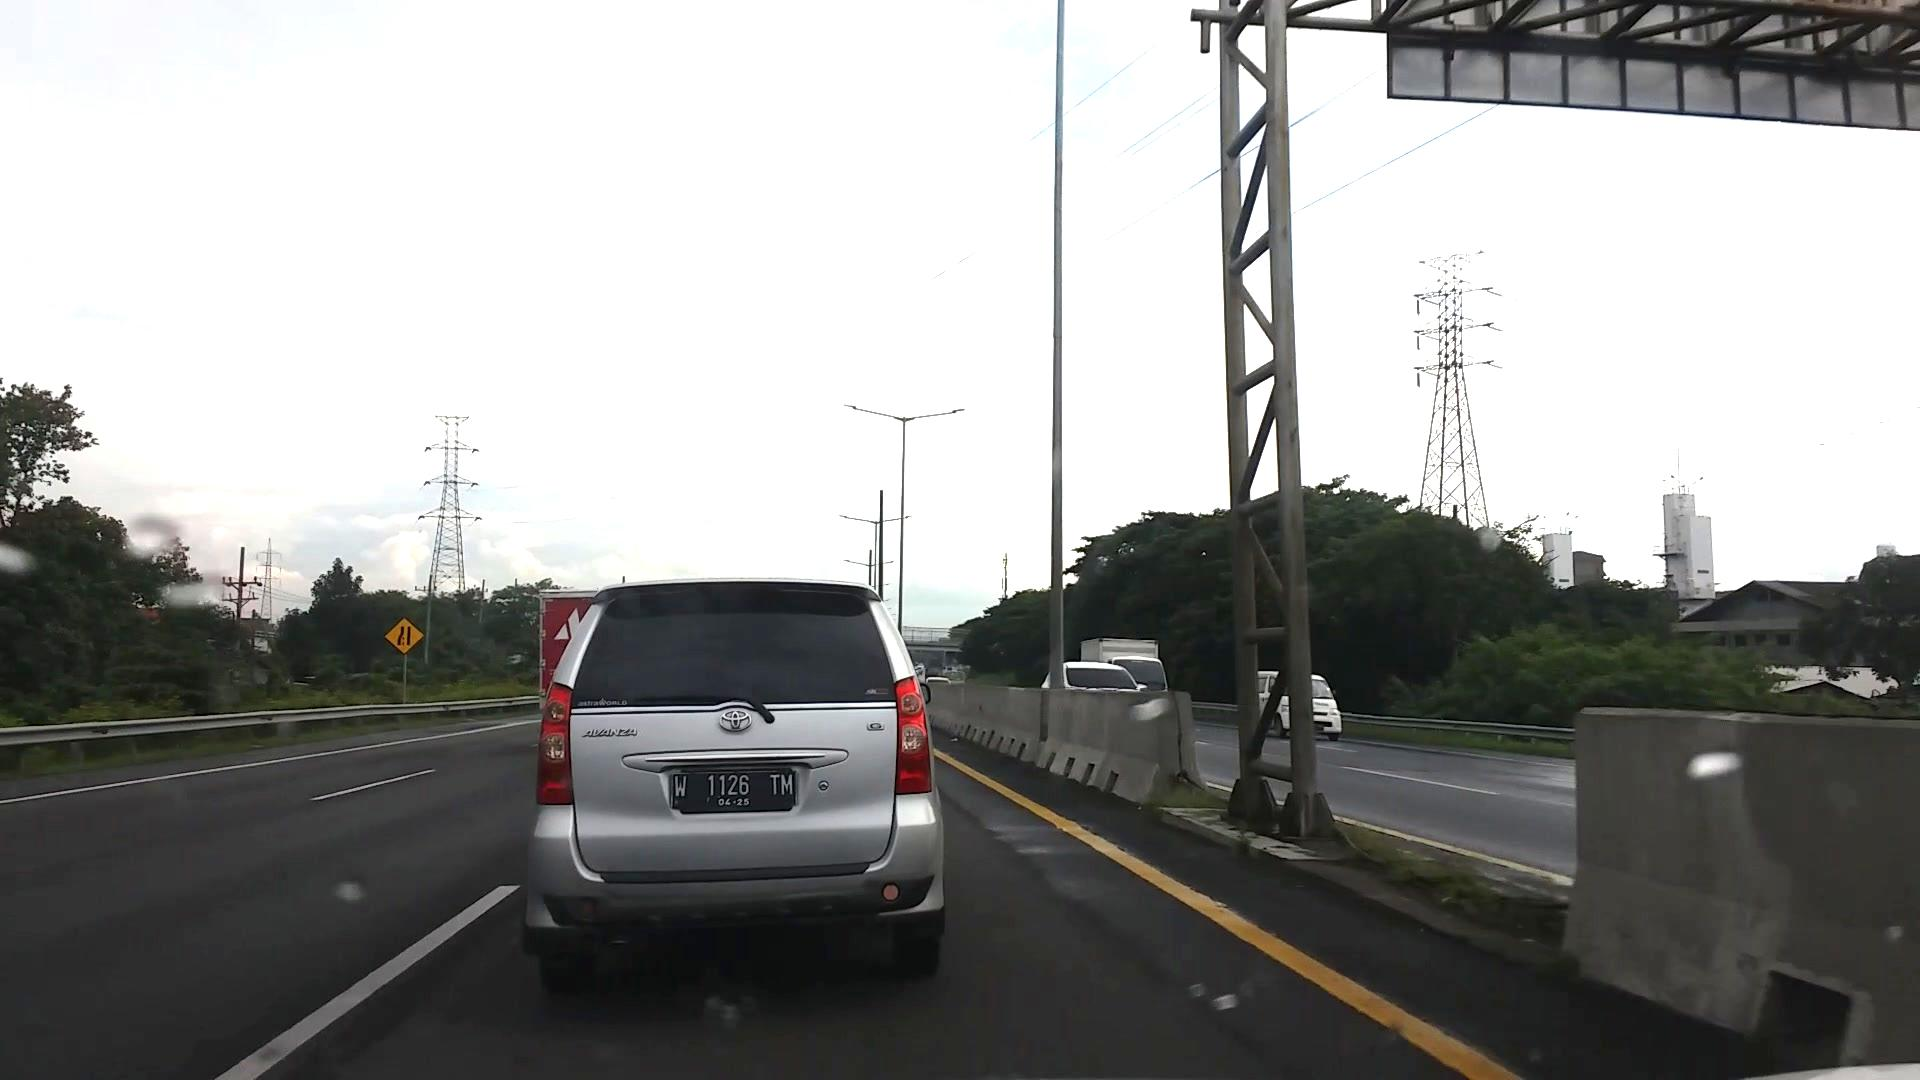plate_positive: (671, 771, 796, 814)
